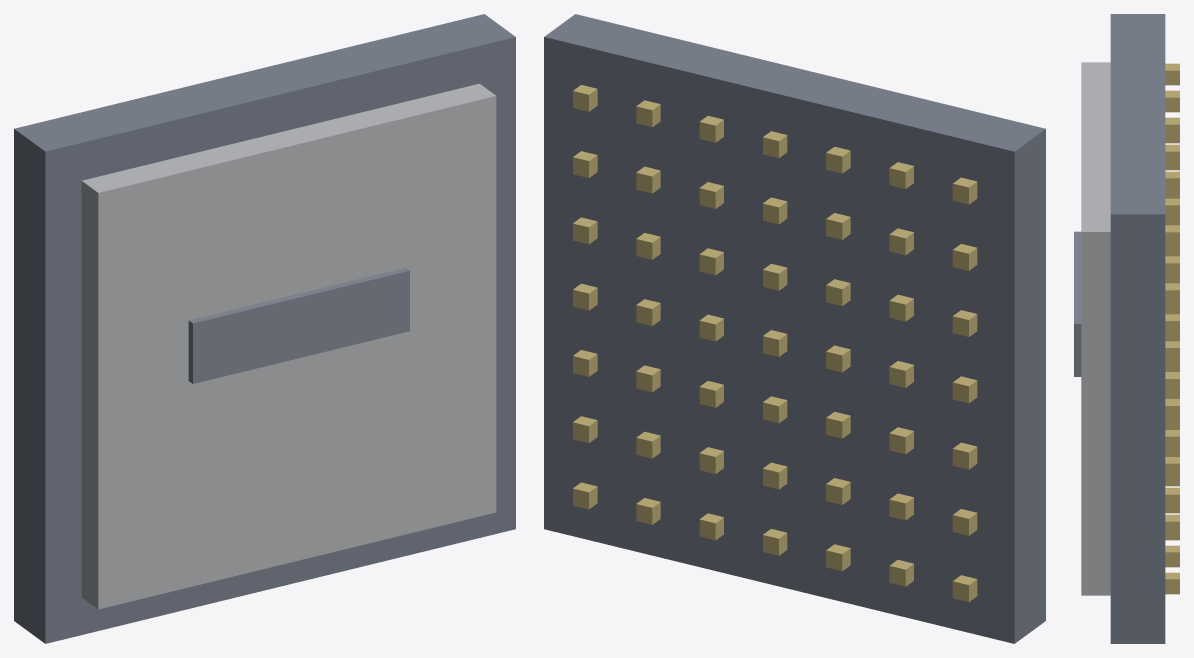
Rendered from cpu.glb.
3 views of the same model, side by side, from view 1: azimuth 30°, elevation 25°; view 2: azimuth 150°, elevation 25°; view 3: azimuth 270°, elevation 25° (orthographic). The views are drawn at different scales.
Visible parts, largest first — view 1: part_1, part_0, part_2; view 2: part_0; view 3: part_0, part_1, part_2, part_9, part_16, part_23, part_30, part_37, part_38, part_39, part_43, part_44 (+10 smaller).
Part boxes in pixels (x1,y1,x2,y2): part_1: [81, 83, 496, 609]; part_0: [14, 14, 515, 643]; part_2: [188, 267, 409, 383]; part_0: [544, 14, 1045, 643]; part_0: [1110, 14, 1165, 643]; part_1: [1081, 62, 1110, 595]; part_2: [1074, 231, 1081, 376]; part_9: [1165, 63, 1179, 85]; part_16: [1165, 90, 1179, 112]; part_23: [1165, 117, 1179, 139]; part_30: [1165, 144, 1179, 166]; part_37: [1165, 171, 1179, 193]; part_38: [1165, 545, 1179, 567]; part_39: [1165, 487, 1179, 509]; part_43: [1165, 256, 1179, 278]; part_44: [1165, 198, 1179, 220].
Bounding box in the file's own units: 2.6 × 2.6 × 0.58.
